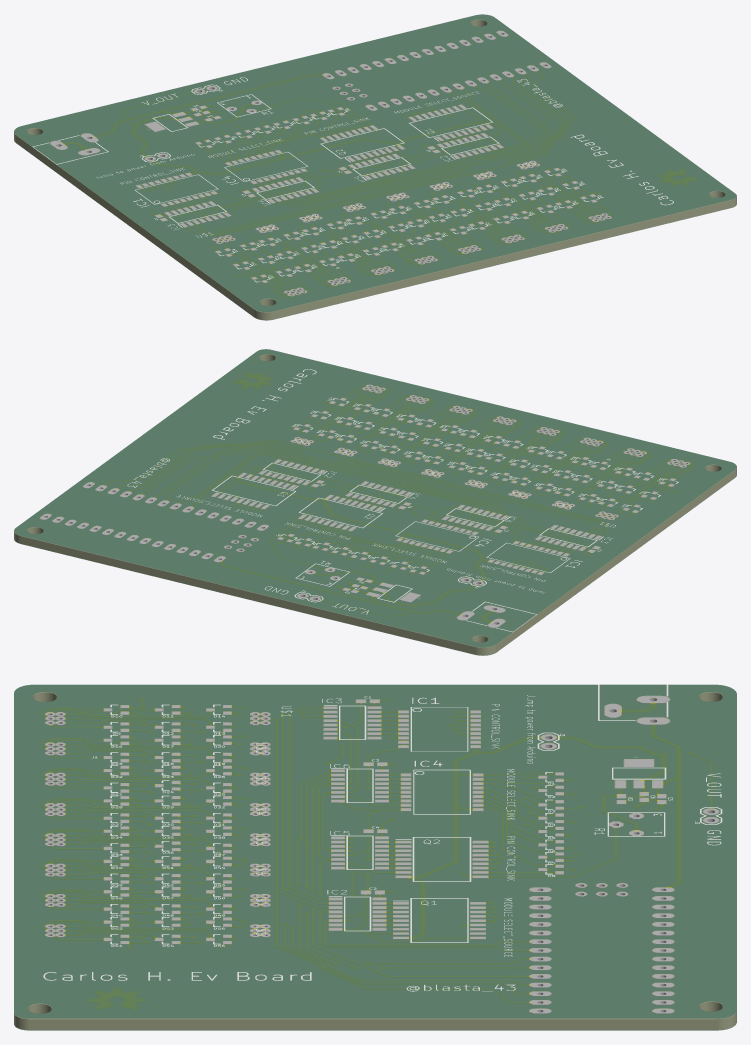
Rendered from Braille Evaluation Board.glb.
3 views of the same model, one above another, from view 1: azimuth 30°, elevation 25°; view 2: azimuth 150°, elevation 25°; view 3: azimuth 270°, elevation 25° (orthographic). The views are drawn at different scales.
Visible parts, largest first — view 1: =>[0:1:1:6], =>[0:1:1:8], =>[0:1:1:3], =>[0:1:1:2], =>[0:1:1:5], =>[0:1:1:7]; view 2: =>[0:1:1:6], =>[0:1:1:8], =>[0:1:1:3], =>[0:1:1:2], =>[0:1:1:5], =>[0:1:1:7]; view 3: =>[0:1:1:6], =>[0:1:1:8], =>[0:1:1:3], =>[0:1:1:2], =>[0:1:1:5], =>[0:1:1:7].
Part boxes in pixels (box(x1,y1,x2,y2)): =>[0:1:1:6]: box(14, 14, 736, 312); =>[0:1:1:8]: box(14, 15, 736, 320); =>[0:1:1:3]: box(50, 31, 611, 296); =>[0:1:1:2]: box(63, 71, 696, 297); =>[0:1:1:5]: box(32, 77, 673, 282); =>[0:1:1:7]: box(14, 141, 735, 320); =>[0:1:1:6]: box(14, 349, 736, 647); =>[0:1:1:8]: box(14, 350, 736, 655); =>[0:1:1:3]: box(40, 384, 689, 627); =>[0:1:1:2]: box(104, 372, 694, 622); =>[0:1:1:5]: box(127, 369, 678, 632); =>[0:1:1:7]: box(14, 476, 736, 655); =>[0:1:1:6]: box(14, 684, 736, 1018); =>[0:1:1:8]: box(14, 685, 736, 1030); =>[0:1:1:3]: box(45, 696, 718, 1013); =>[0:1:1:2]: box(42, 698, 711, 1009); =>[0:1:1:5]: box(43, 684, 722, 991); =>[0:1:1:7]: box(14, 1022, 736, 1030).
Bounding box in the file's own units: 0.098 × 0.00163 × 0.0896.
